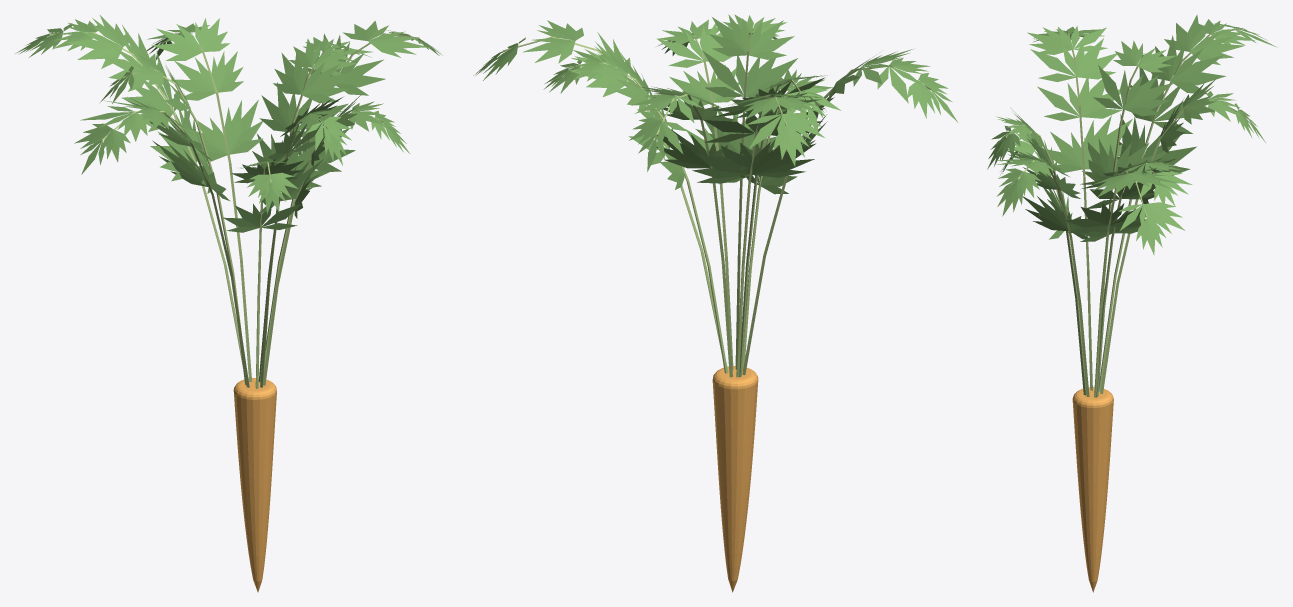
Rendered from carrot_v00.glb.
3 views of the same model, side by side, from view 1: azimuth 30°, elevation 25°; view 2: azimuth 150°, elevation 25°; view 3: azimuth 270°, elevation 25° (orthographic). The views are drawn at different scales.
Visible parts, largest first — view 1: leaves, petioles, root; view 2: leaves, petioles, root; view 3: leaves, root, petioles.
Boxes of the visible parts, box(x1,y1,x2,y2) form: leaves: box(15, 15, 442, 232); petioles: box(49, 32, 419, 388); root: box(233, 378, 276, 592); leaves: box(473, 14, 957, 194); petioles: box(502, 29, 931, 377); root: box(712, 366, 758, 592); leaves: box(987, 14, 1276, 255); root: box(1072, 387, 1113, 592); petioles: box(1005, 28, 1248, 397).
Size of the model in its own units: 0.3953 by 0.5027 by 0.2569.
